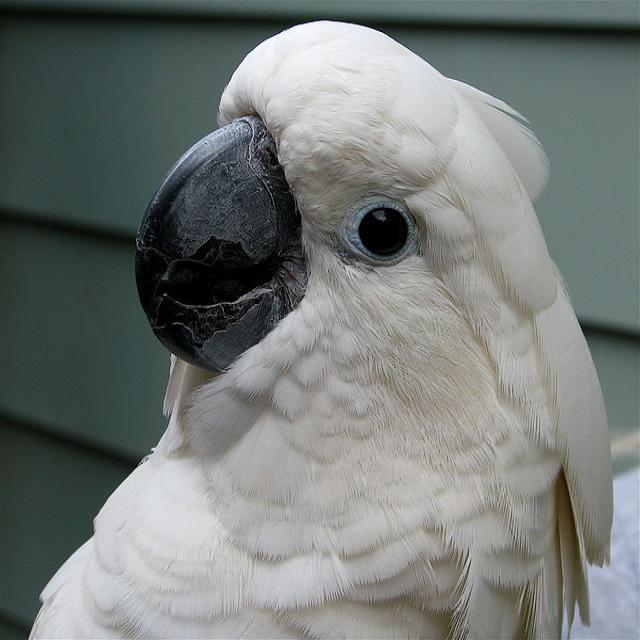Kakatua Putih: (9, 0, 635, 640)
